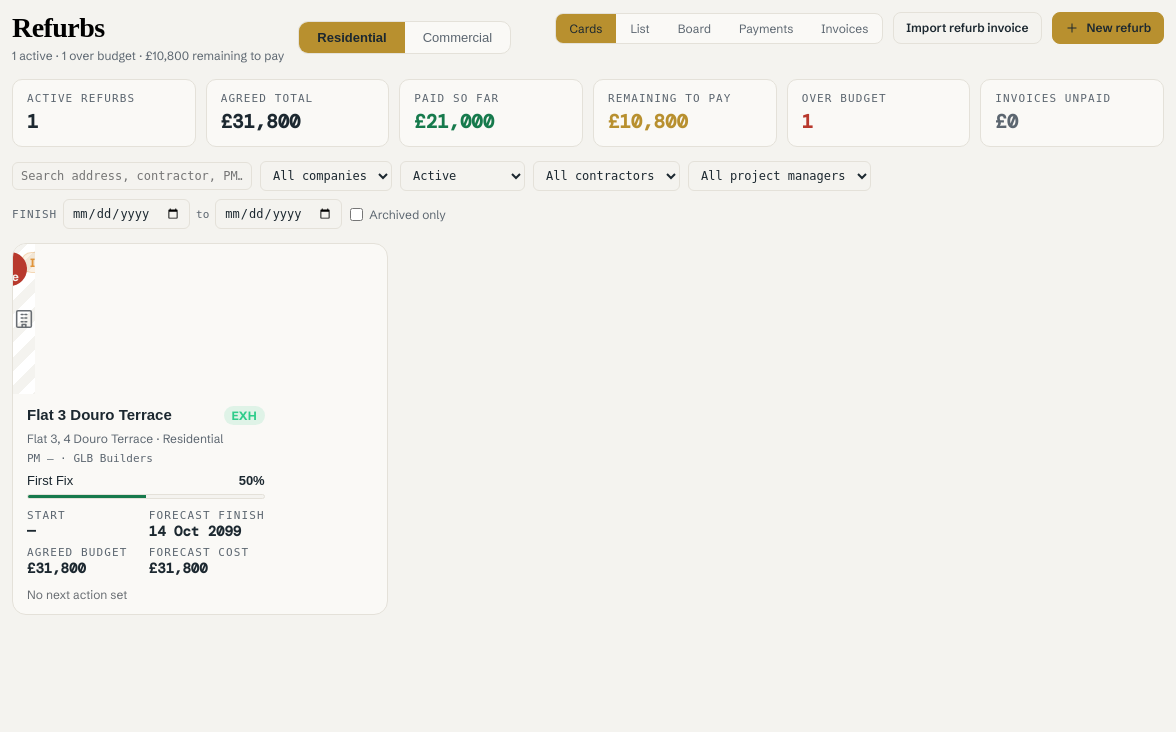
Test: RefurbsPage › shows active refurbs as cards with journey progress, completed ones on request
Expected: the heading "Refurbs" is shown, top-left (12, 12), bottom-right (104, 43)
Expected: the text "1 active · 1 over budget · £10,800 remaining to pay" is shown, top-left (12, 48), bottom-right (284, 63)
Select "All statuses" in the dropdown named "Status": coordinates (462, 176) top-left (400, 161), bottom-right (525, 191)
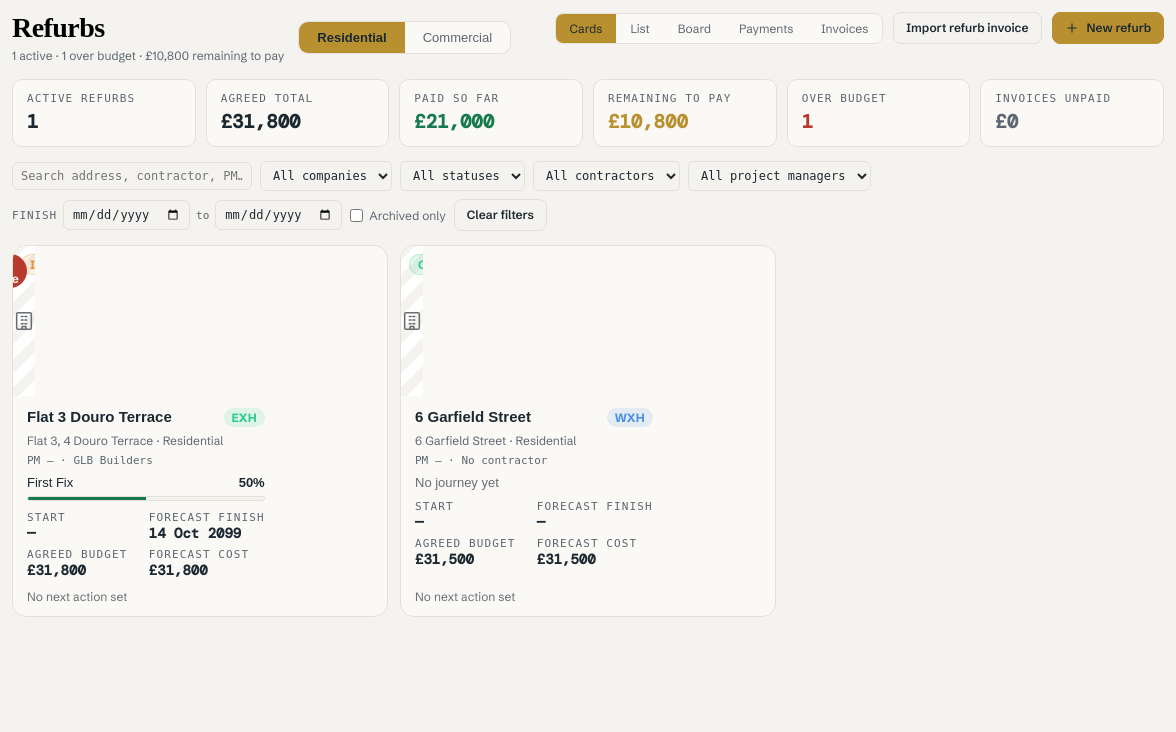
Now the text "6 Garfield Street" is shown, box top-left (415, 408), bottom-right (531, 425)
